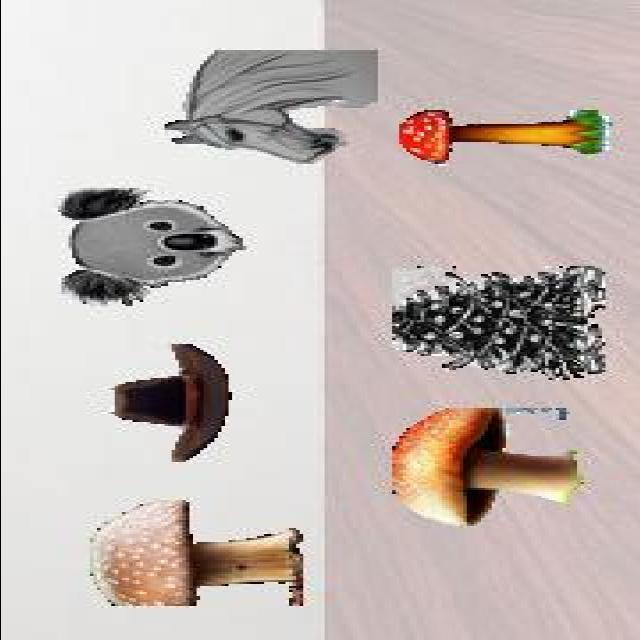Other Objects: (85, 499, 302, 608), (388, 408, 580, 526), (110, 344, 230, 464), (396, 109, 613, 164)
